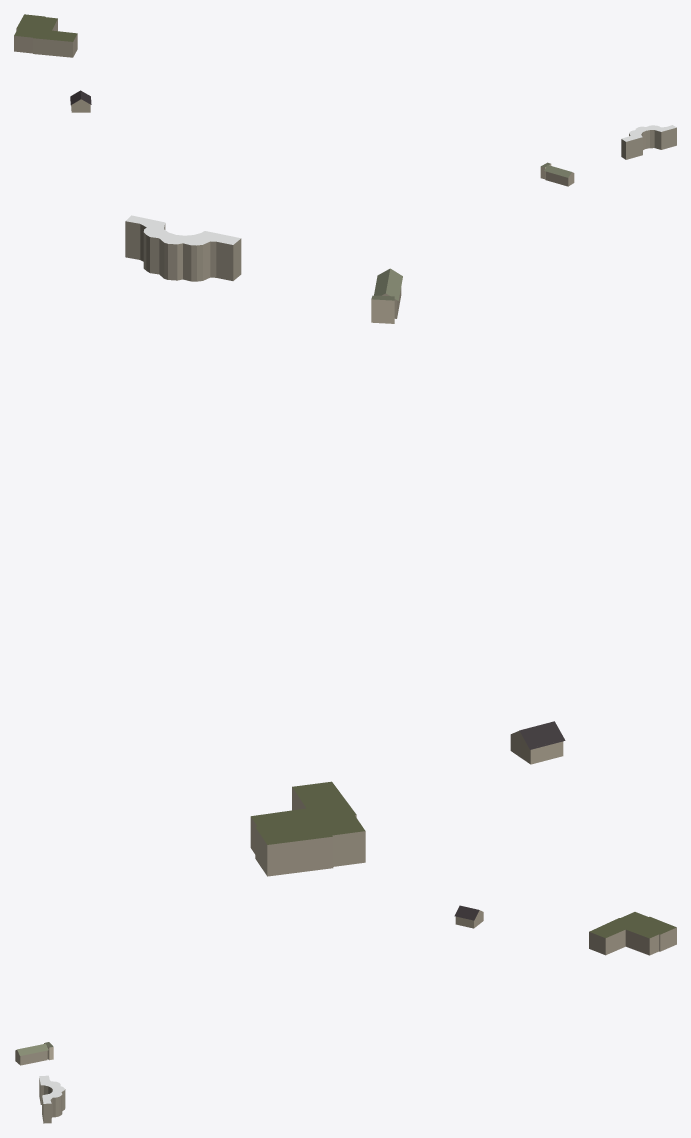
3 renders of one model, top to bottom at view 1: azimuth 30°, elevation 25°; view 2: azimuth 150°, elevation 25°; view 3: azimuth 270°, elevation 25°, orthographic. The views are drawn at different scales.
Visible parts, largest first — view 1: tuile; view 2: tuile; view 3: tuile.
Boxes of the visible parts, box(x1,y1,x2,y2) form: tuile: box(14, 14, 676, 186); tuile: box(125, 215, 565, 876); tuile: box(15, 905, 676, 1123).
Bounding box in the file's own units: 190 × 12.62 × 244.
